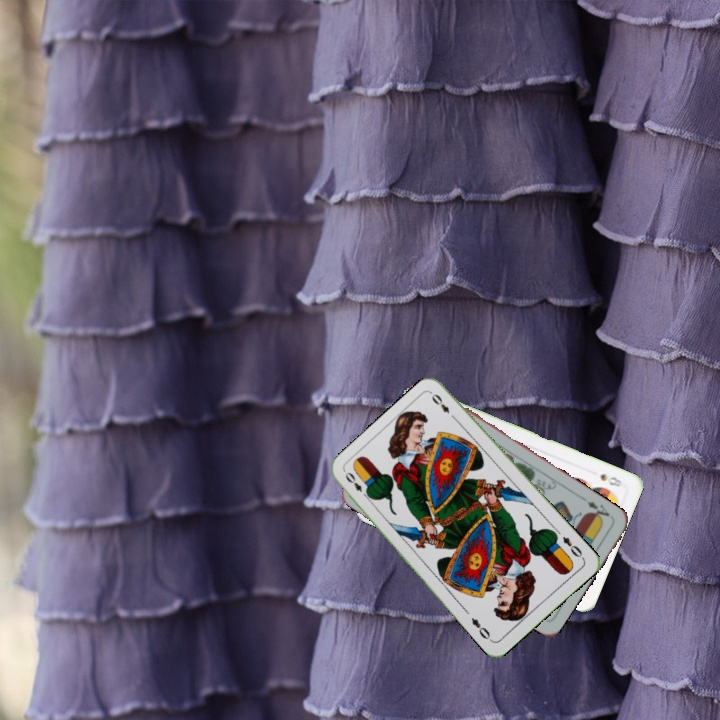EA: (583, 497, 615, 524)
EO: (341, 468, 373, 502), (558, 532, 587, 562)
S8: (596, 469, 625, 490)
